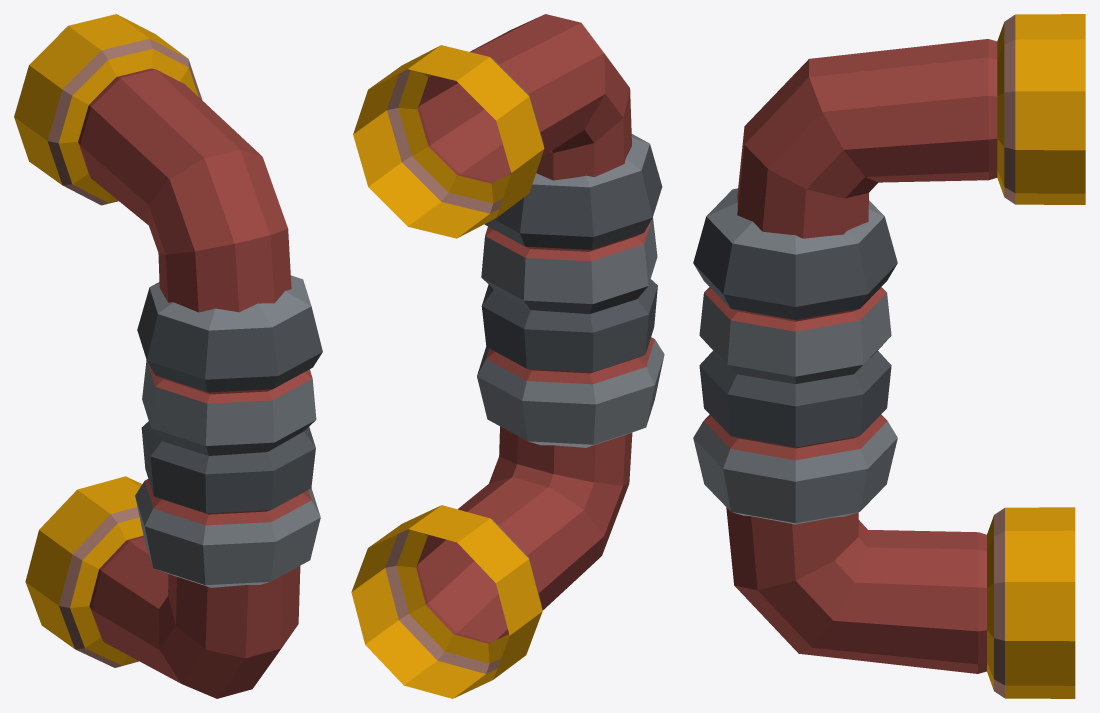
File: EA_SP_GrabHandle_01a.glb
3 renders of one model, left to right at view 1: azimuth 30°, elevation 25°; view 2: azimuth 150°, elevation 25°; view 3: azimuth 270°, elevation 25°, orthographic. The views are drawn at different scales.
Parts seen in each view (by area): view 1: EA_SP_GrabHandle_01a; view 2: EA_SP_GrabHandle_01a; view 3: EA_SP_GrabHandle_01a.
Boxes of the visible parts, x1,y1,x2,y2 form: EA_SP_GrabHandle_01a: (14,14,322,698); EA_SP_GrabHandle_01a: (351,14,664,698); EA_SP_GrabHandle_01a: (693,14,1085,698).
Size of the model in its own units: 0.3612 by 1.26 by 0.6835.
Materials: 1 (1 with a texture image).
